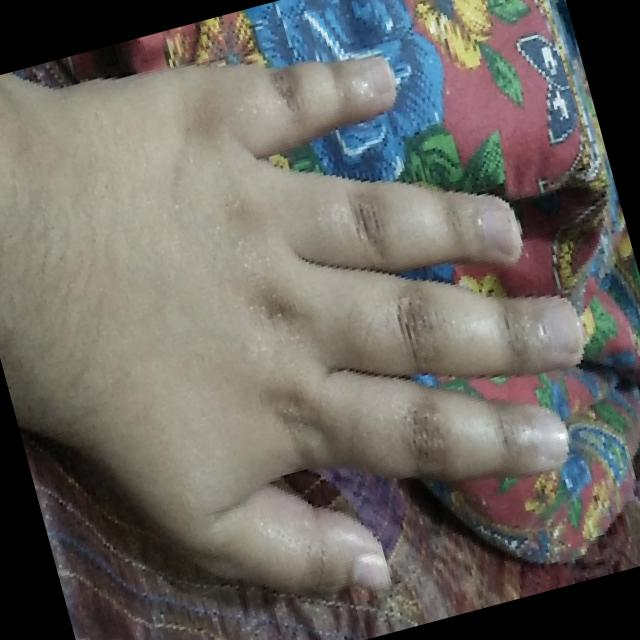Nail: (541, 303, 583, 353), (478, 204, 511, 254), (534, 412, 567, 461), (349, 551, 389, 591), (366, 58, 392, 95)
